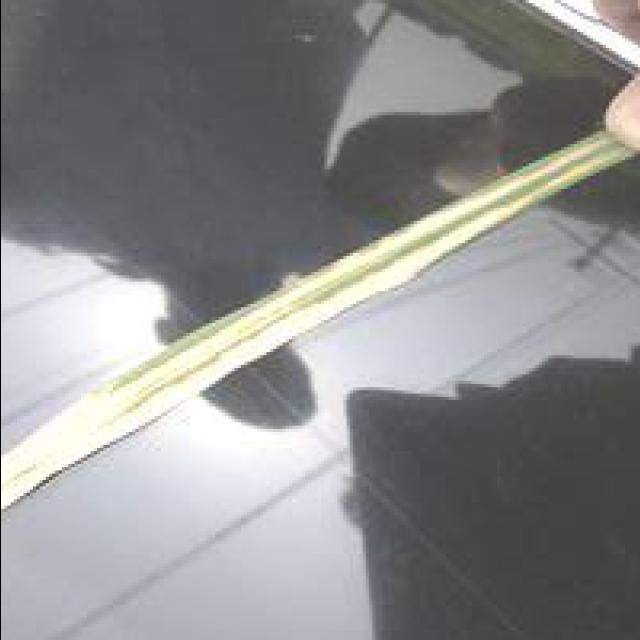Bacterial_Leaf_Blight: (0, 140, 608, 506)
